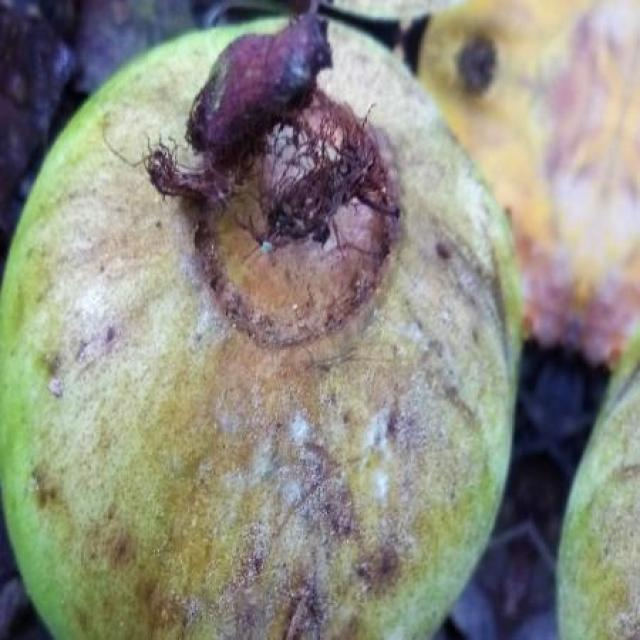Styler and Root: (0, 14, 520, 640)
